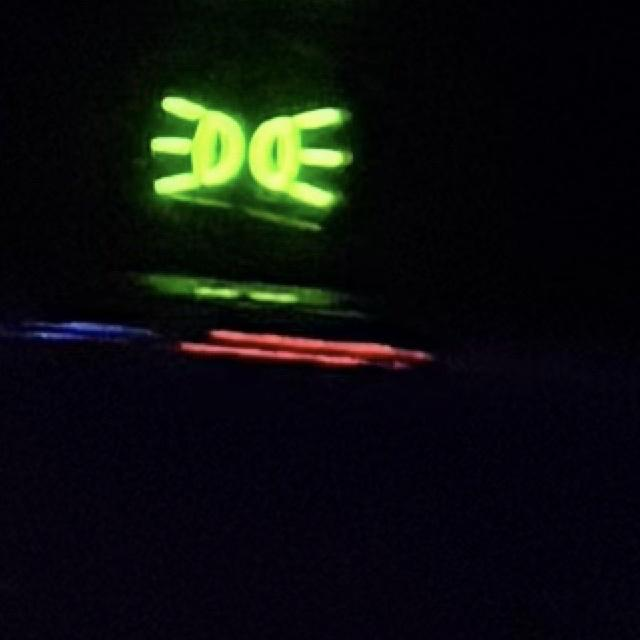Parking Light On: (146, 90, 362, 218)
